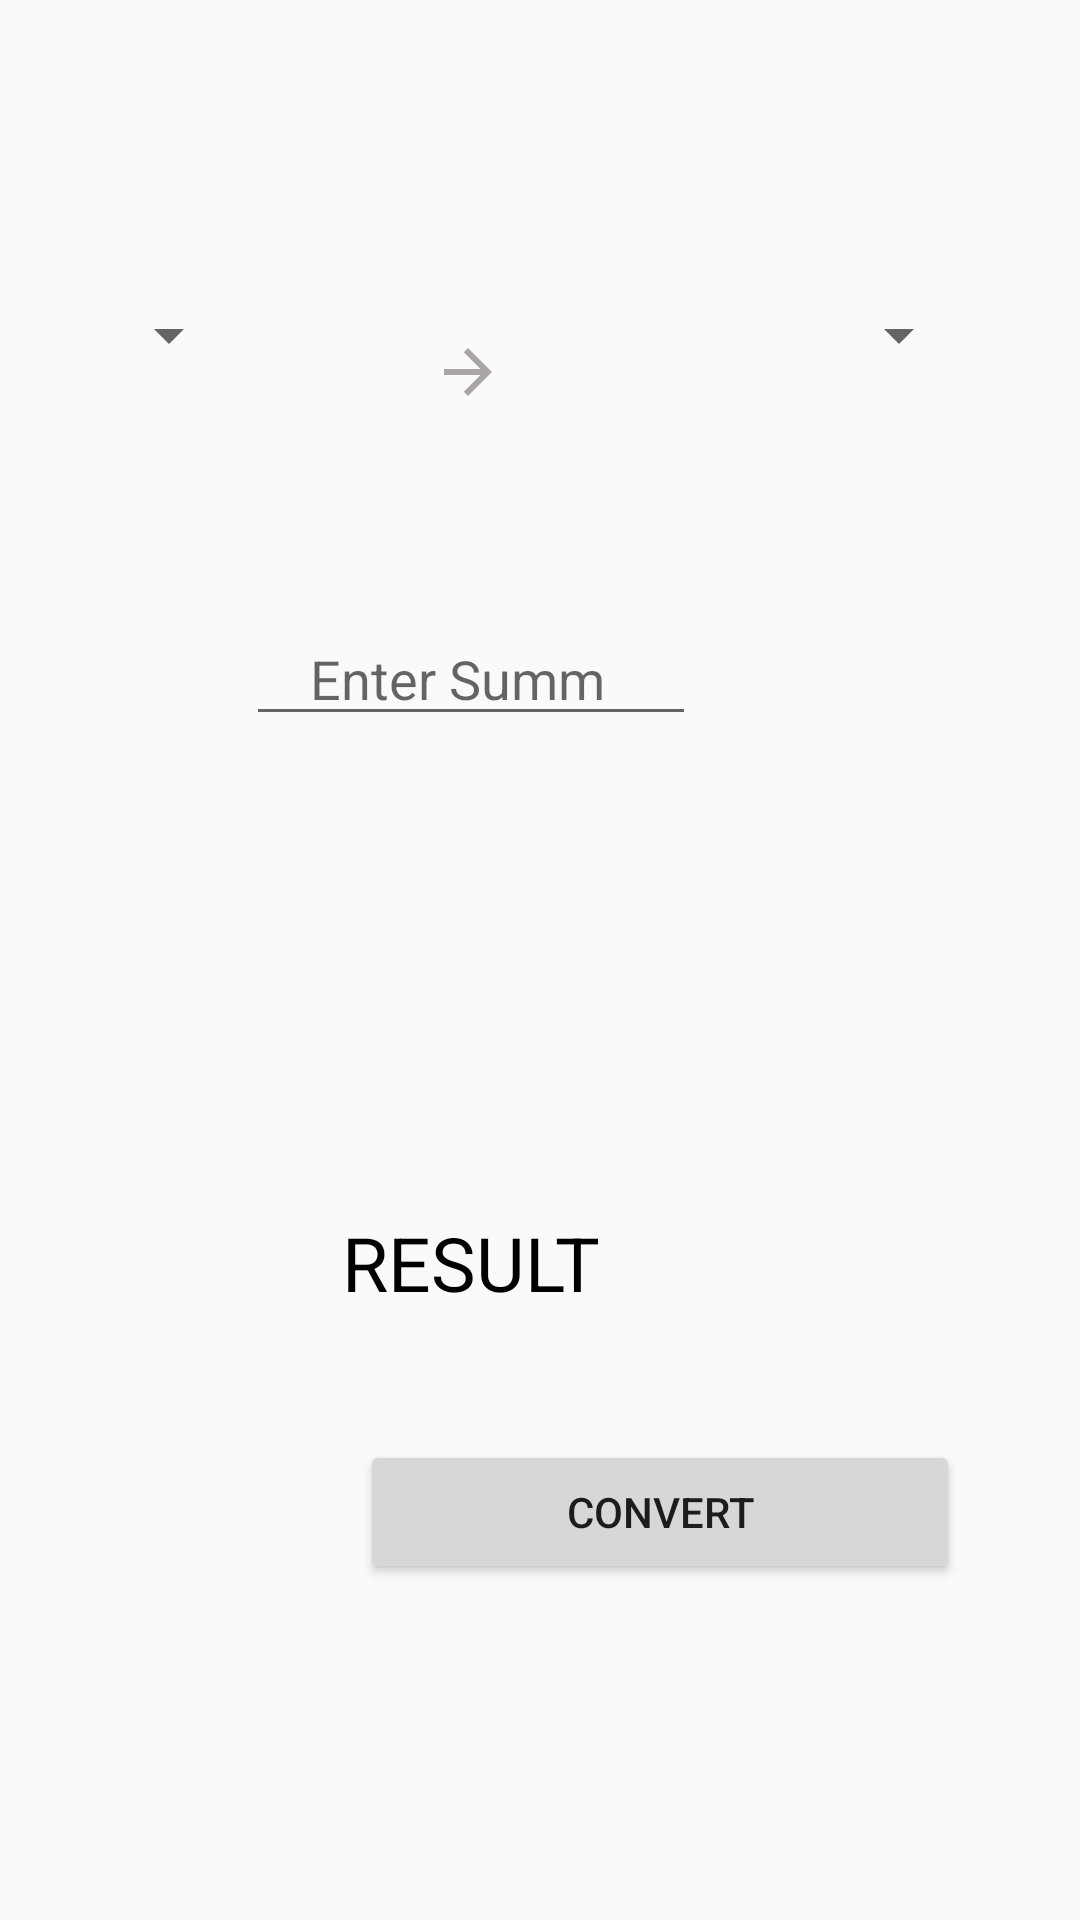

Named icons in this screenshot (1080px x 1920px) and their bounding boxes, (x1, y1, x2, y2):
arrow forward: (444, 348, 492, 396)
